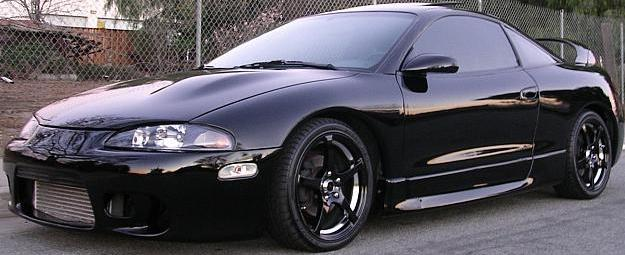front_view: (9, 106, 286, 241)
headlight: (98, 108, 254, 166)
side_glass: (395, 1, 535, 83)
